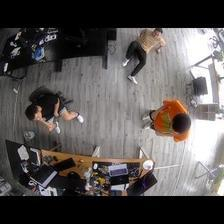fall: (120, 27, 169, 83)
normal: (25, 89, 84, 131), (142, 99, 192, 146)
